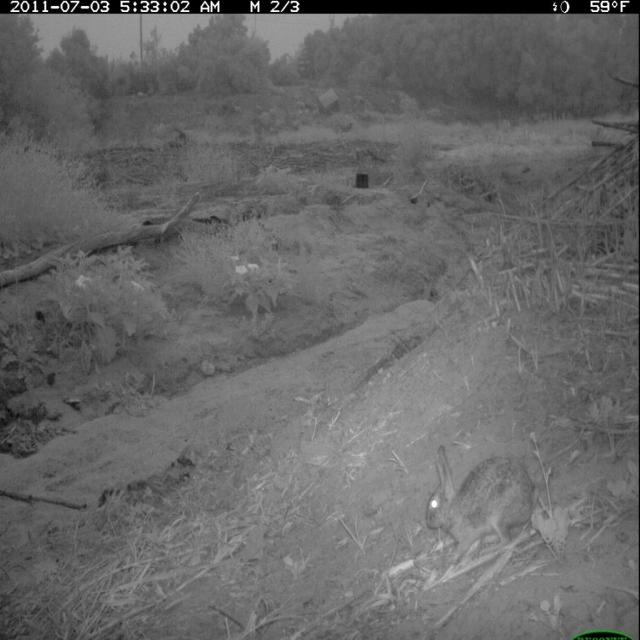rabbit: (419, 436, 544, 569)
